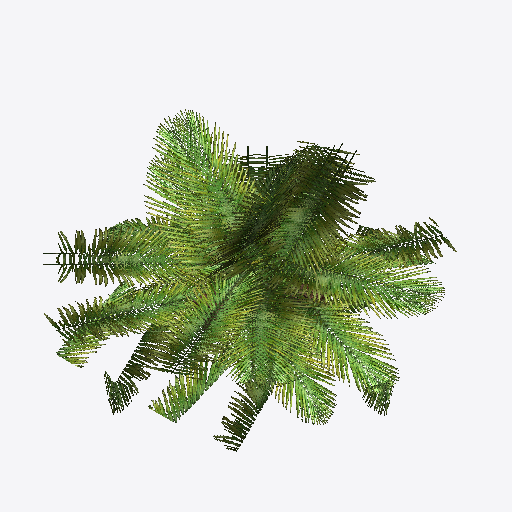
Isometric view (azimuth 45°, elevation 35.3°) of a Minecraft model made of 68 cuboids, textured from the same repository.
Parts seen in each view (by area): element 59, element 54, element 56, element 49, element 48, element 52, element 58, element 60, element 50, element 57, element 25, element 31 (+9 smaller).
Part boxes in pixels (x1,y1,x2,y2): element 59: (152,109,285,293); element 54: (249,243,444,318); element 56: (141,265,267,379); element 49: (212,270,320,387); element 48: (43,226,239,287); element 52: (236,145,367,320); element 58: (44,278,231,346); element 60: (205,149,310,285); element 50: (143,146,253,301); element 57: (256,217,456,281); element 25: (318,299,399,388); element 31: (148,343,241,422).
Bounding box in the file's own units: 50.39 × 34.43 × 48.06.